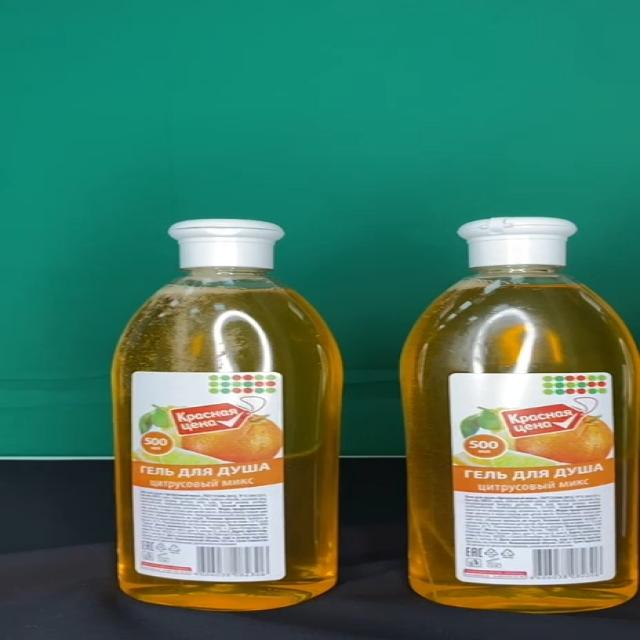Bottle: (401, 218, 640, 612), (111, 220, 346, 612)
Cap: (166, 220, 286, 272), (459, 217, 576, 266)
